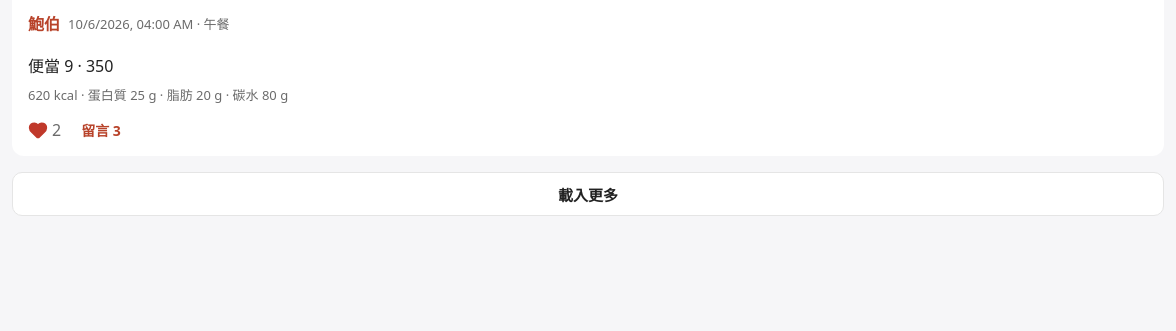
Test case: 好友動態 › 載入更多：帶上一頁的游標；沒有下一頁時按鈕消失
Click the button "載入更多" at [588, 194], box 12,172 -> 1164,216
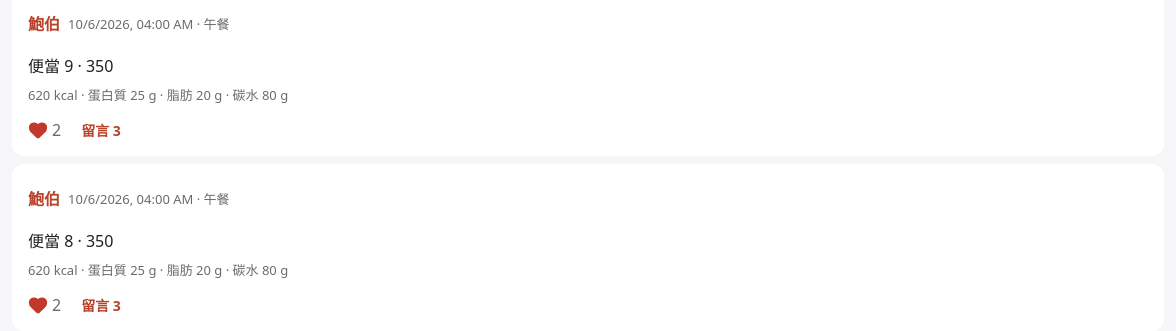
Expected: the list item "便當 9" is shown, 28,55 -> 73,77
Result: the list item "便當 8" is shown at 28,230 -> 73,252
Result: the button "載入更多" is gone
